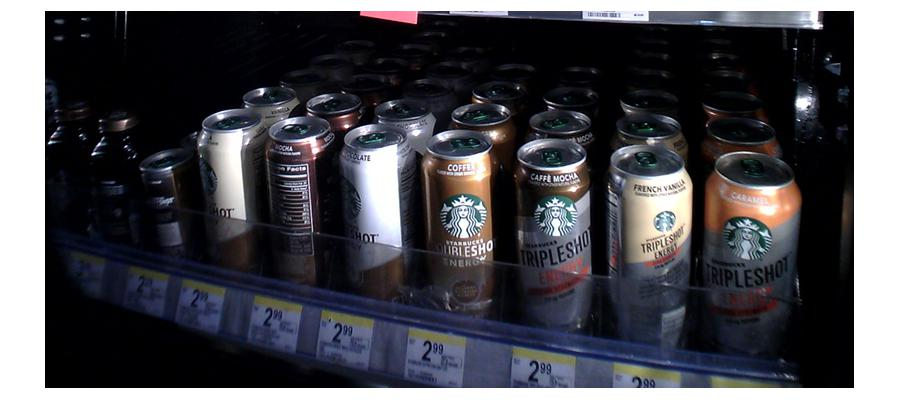bottle: (702, 152, 799, 359), (606, 144, 694, 352), (512, 135, 595, 337), (418, 127, 497, 321), (339, 130, 411, 303), (269, 114, 334, 293), (197, 111, 263, 274), (84, 112, 143, 258), (142, 143, 195, 258)
